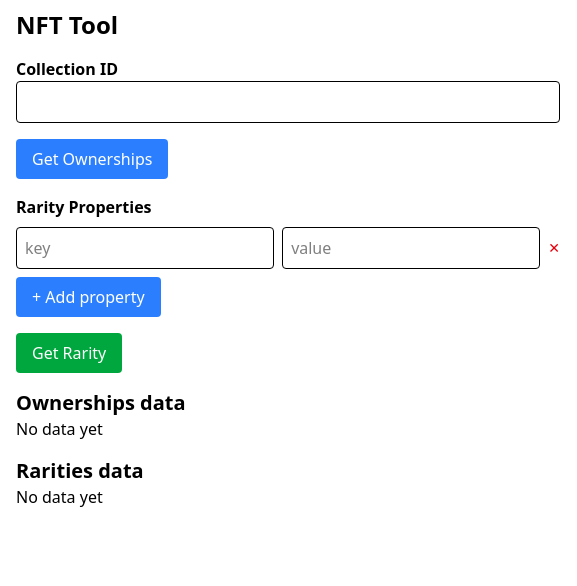
Test case: returns rarity data when collectionId and properties are valid
The image size is (577, 586).
Type "test-collection" into the 1st field with class "rounded" at (288, 102), box [16,81,560,123]
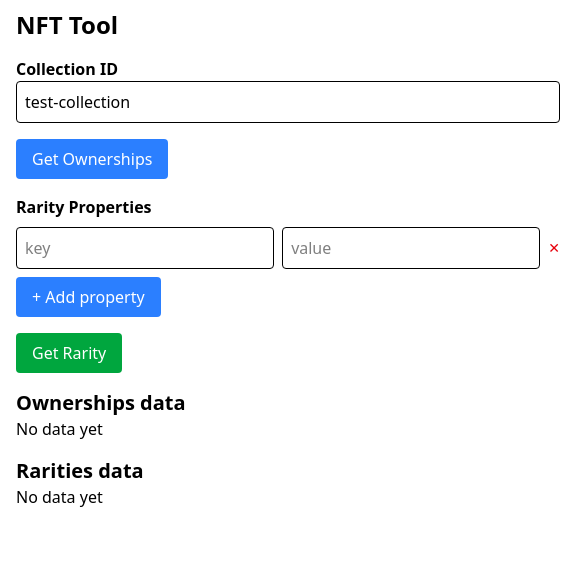
Type "color" into the field with placeholder "key" at (145, 248), box [16,227,274,269]
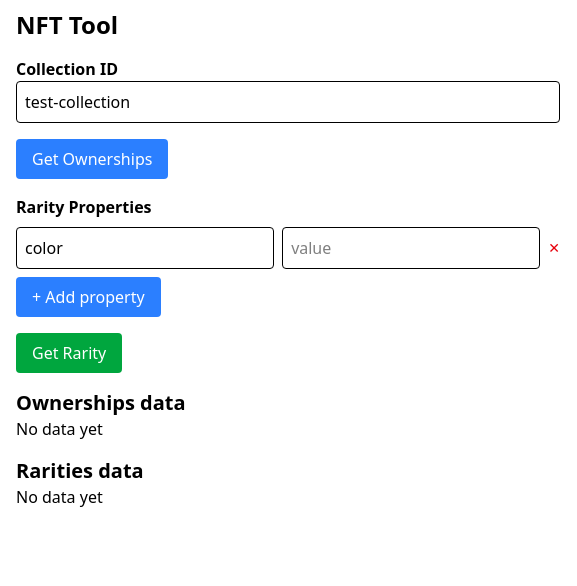
Type "blue" into the field with placeholder "value" at (411, 248), box [282,227,540,269]
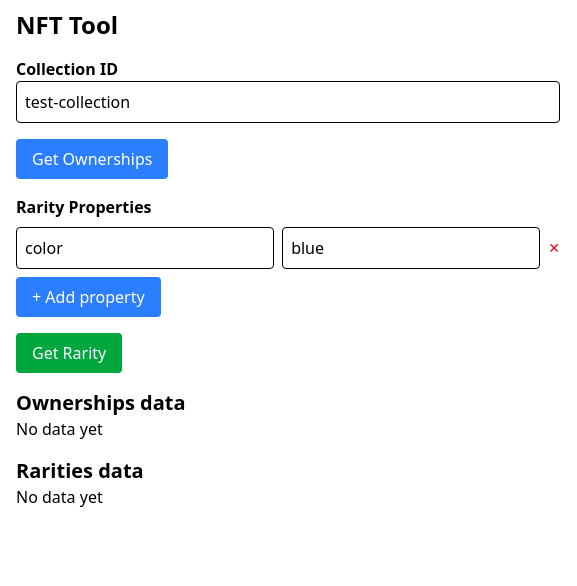
Click the button "Get Rarity" at (69, 353), box [16,333,122,373]
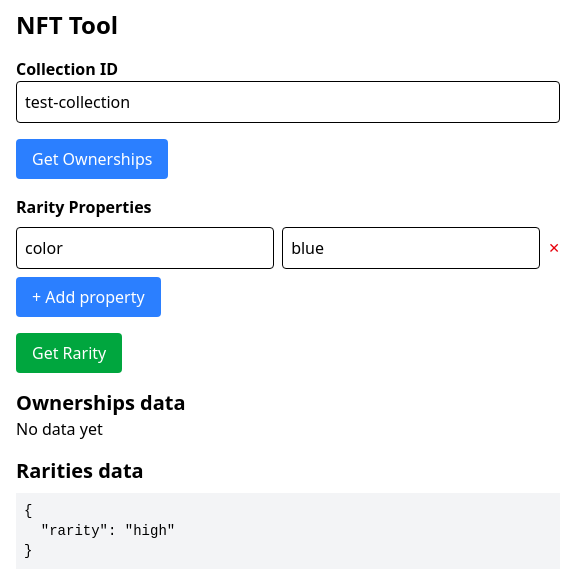
Check: the text "{ \"rarity\": \"high\" }" shows "\"rarity\"", box [24,503,175,559]
